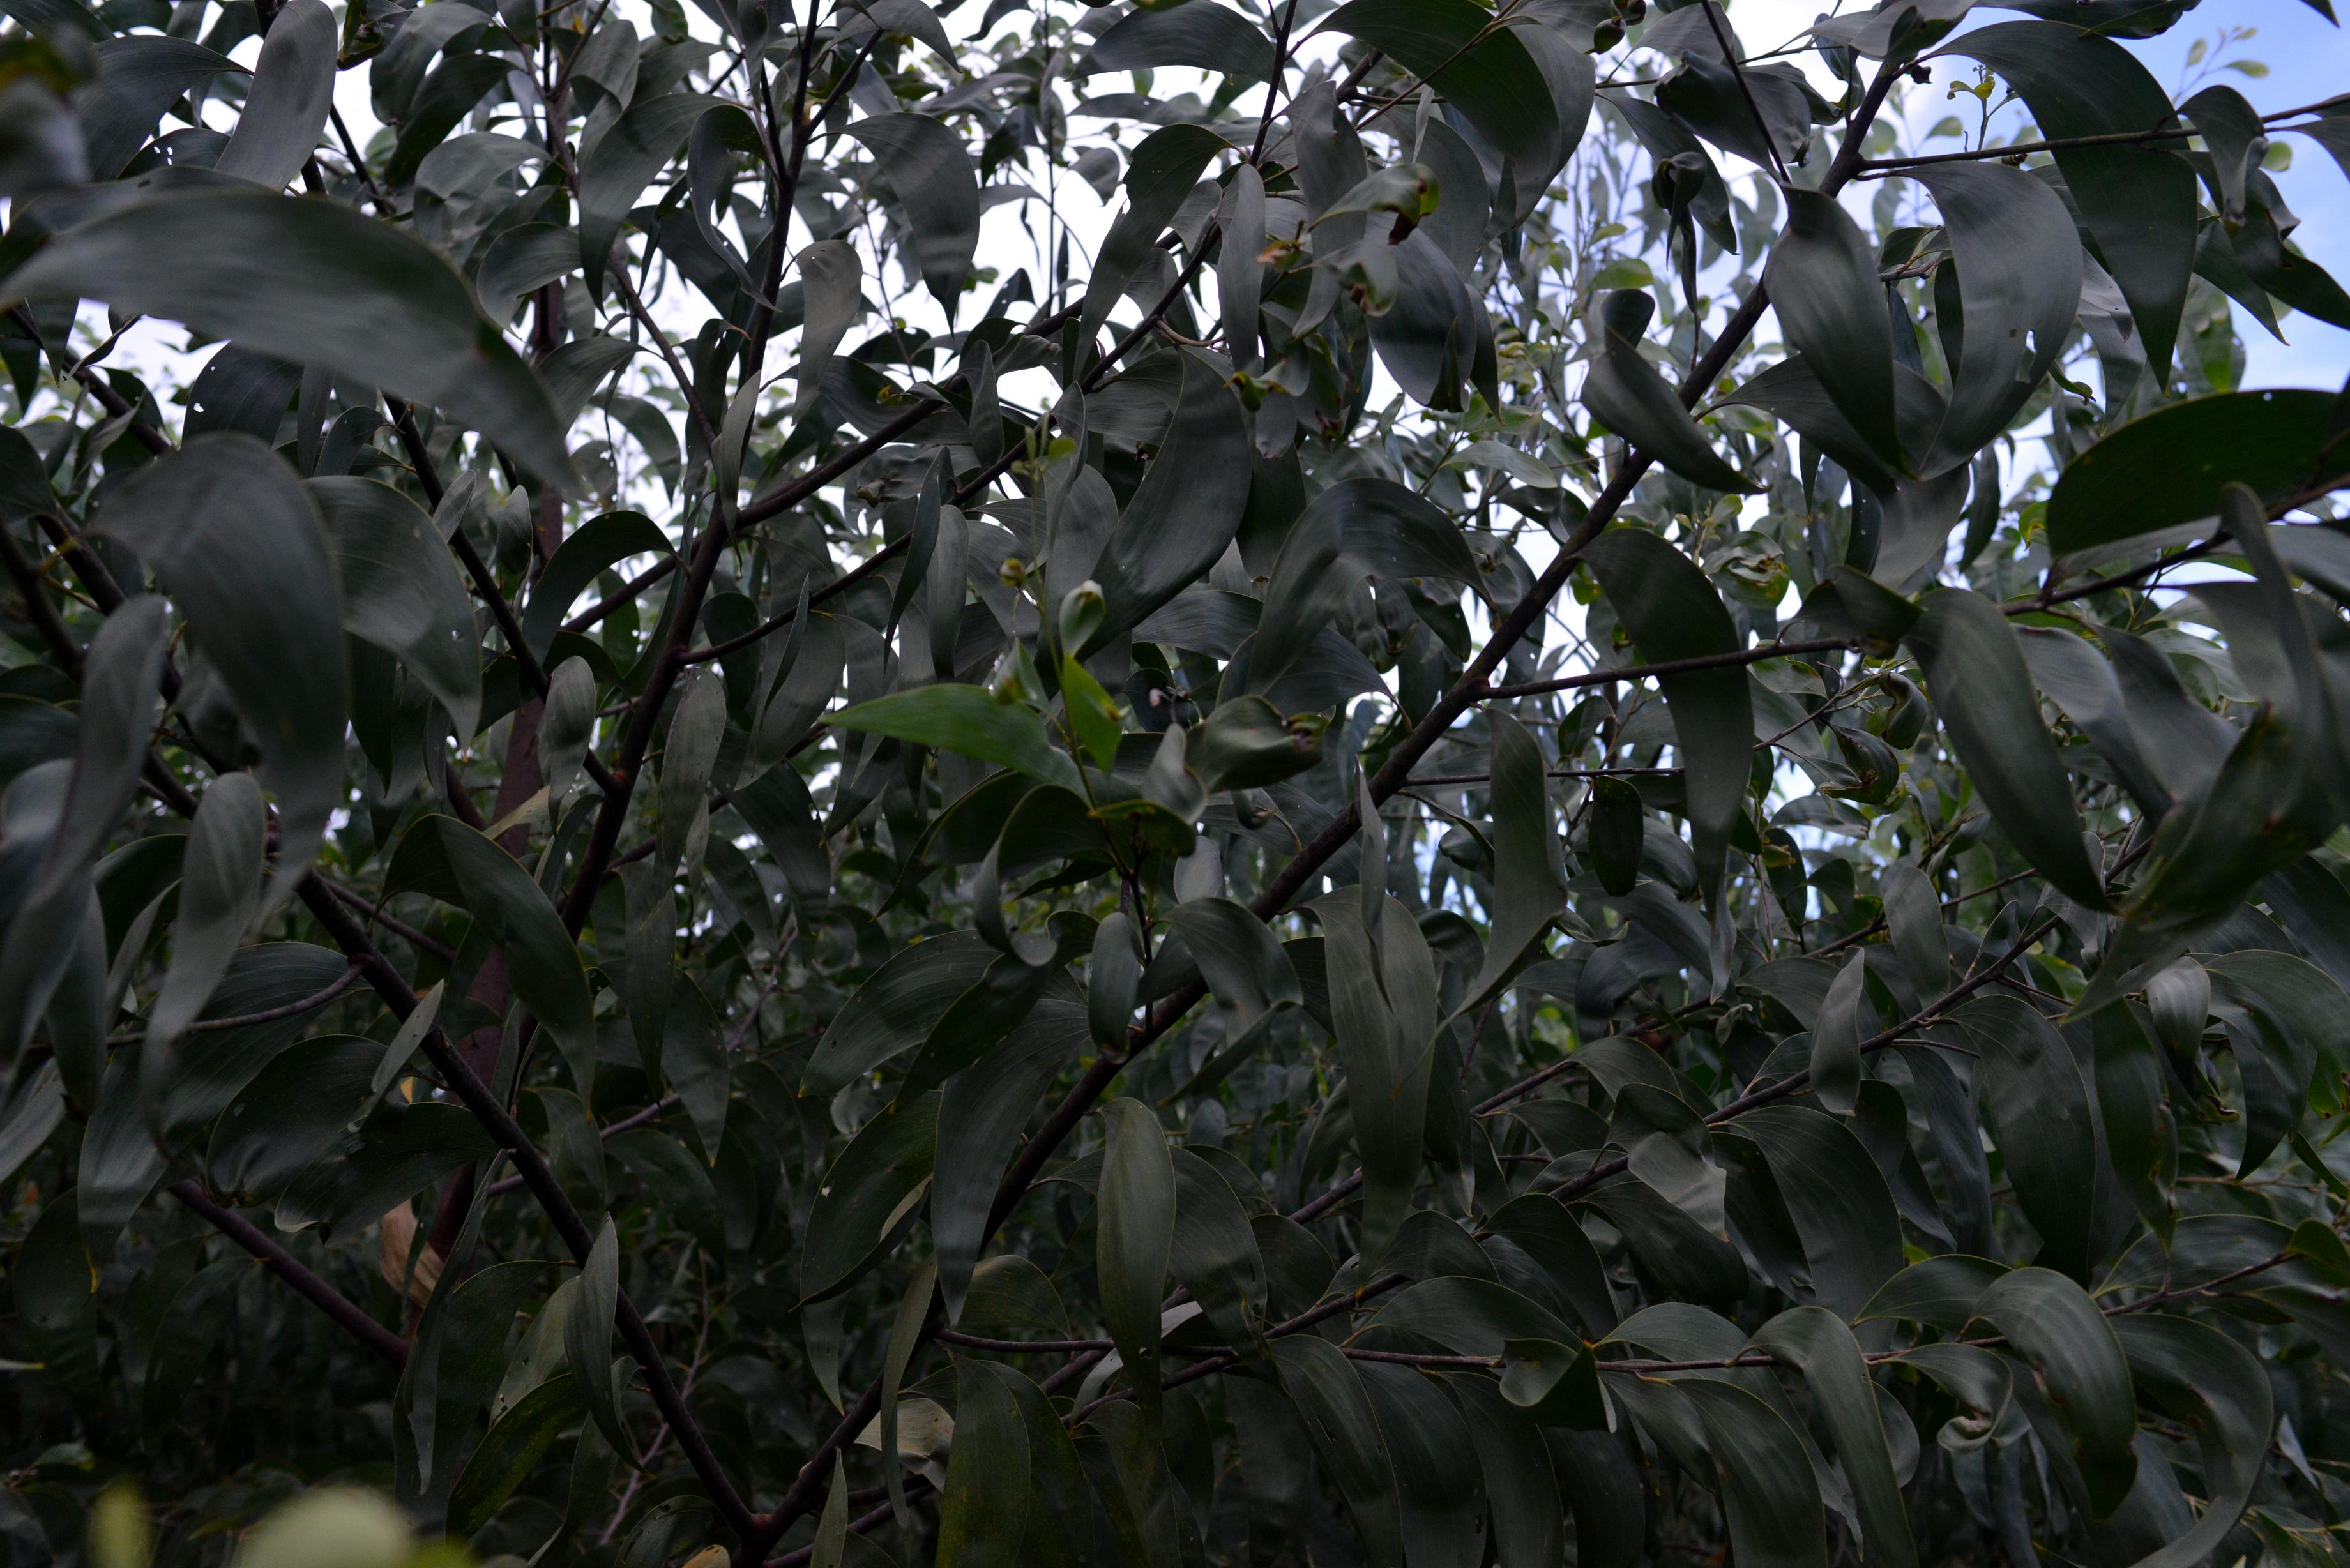Pasalora: (1213, 290, 1403, 418), (1041, 591, 1150, 793), (1333, 128, 1451, 250), (1234, 674, 1356, 787), (1652, 129, 1718, 313)
